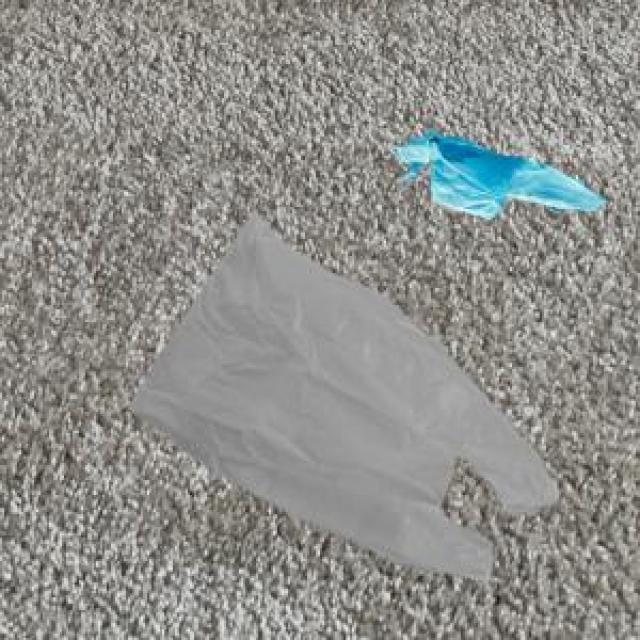waste: (138, 222, 558, 578), (396, 129, 605, 217)
